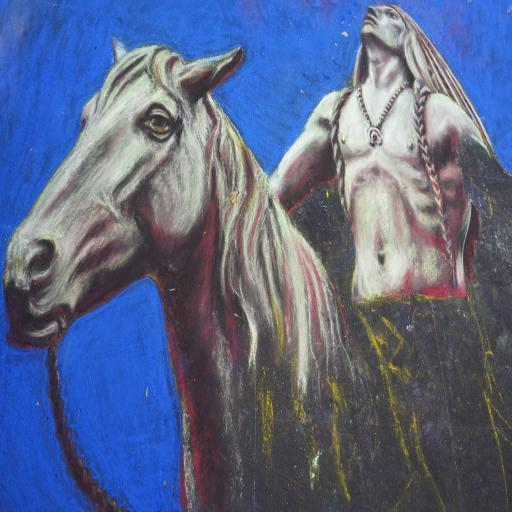horse: (2, 46, 350, 510)
